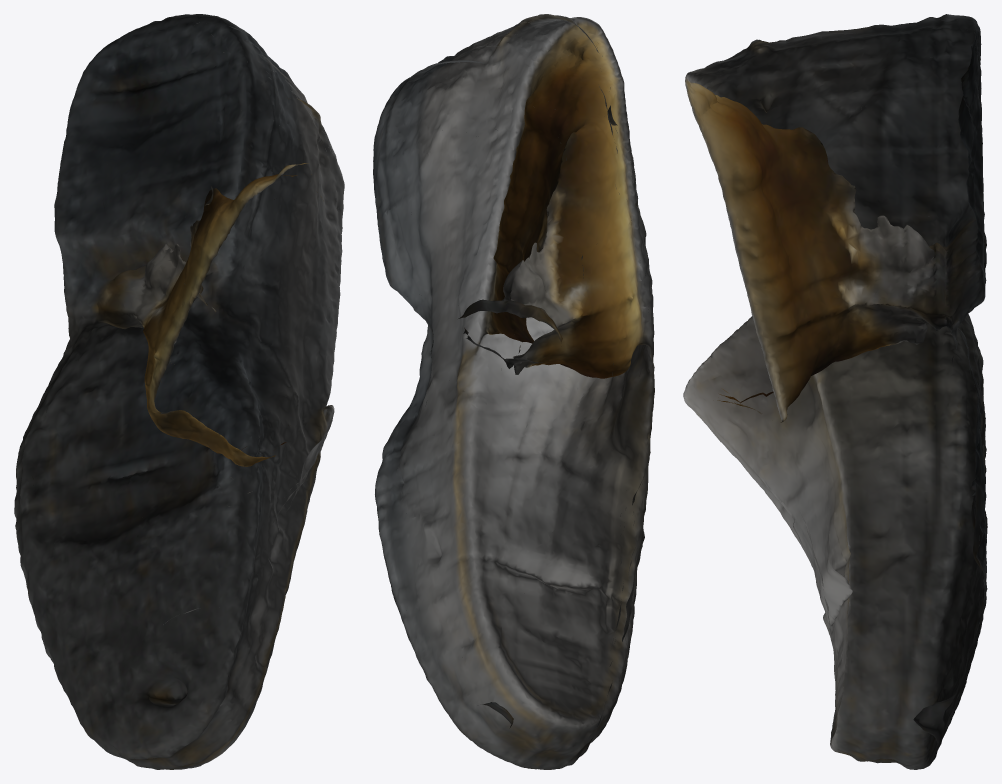
The model's file is leather.glb.
3 renders of one model, left to right at view 1: azimuth 30°, elevation 25°; view 2: azimuth 150°, elevation 25°; view 3: azimuth 270°, elevation 25°, orthographic. The views are drawn at different scales.
Size of the model in its own units: 0.3707 by 1 by 0.3669.
